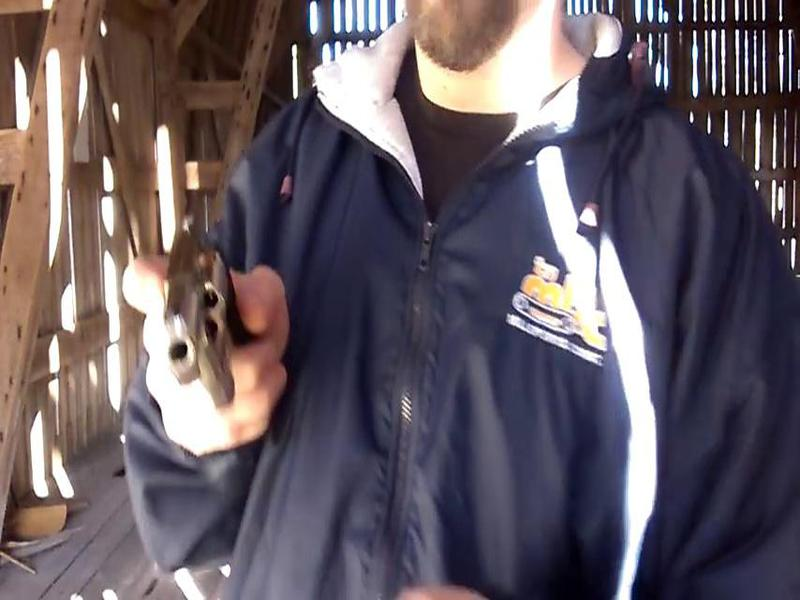Revolver: (122, 198, 292, 417)
